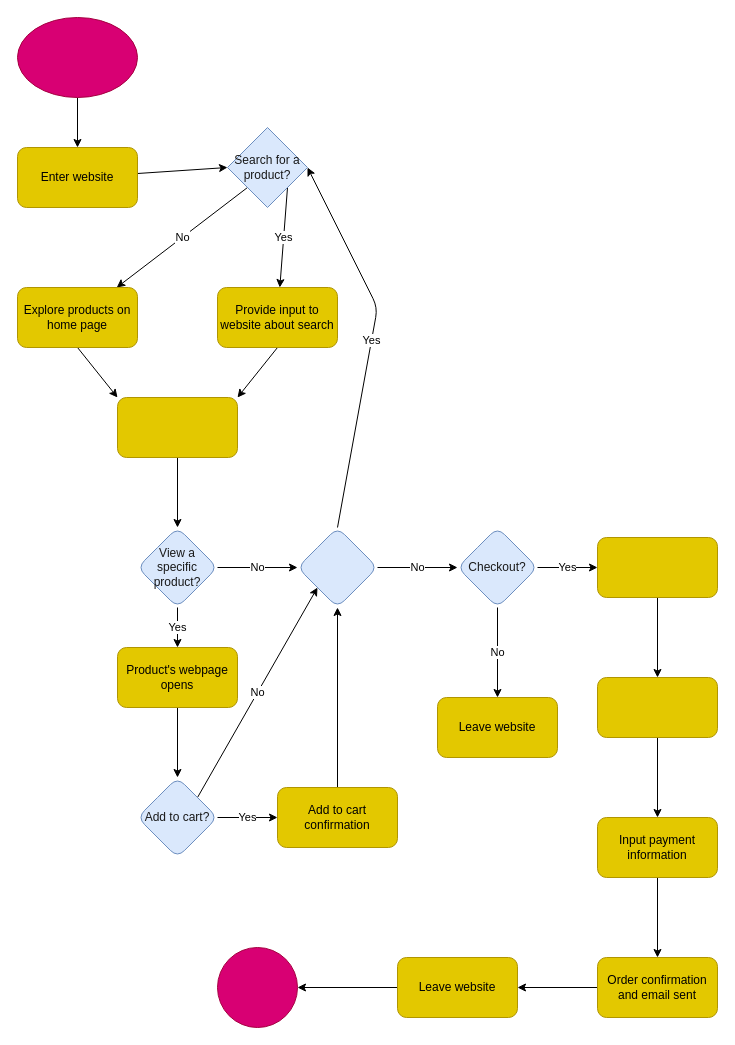
The diagram is 735 pixels wide and 1045 high, and some of its shapes have lost their labels. The shapes that lost their labels are listed below. From the top down, each one's centre as x and y in pixels, then its label:
the point at 77,57: Start
the point at 177,427: Shop
the point at 337,567: Continue shopping?
the point at 657,567: View cart
the point at 657,707: View payment
the point at 257,987: End
